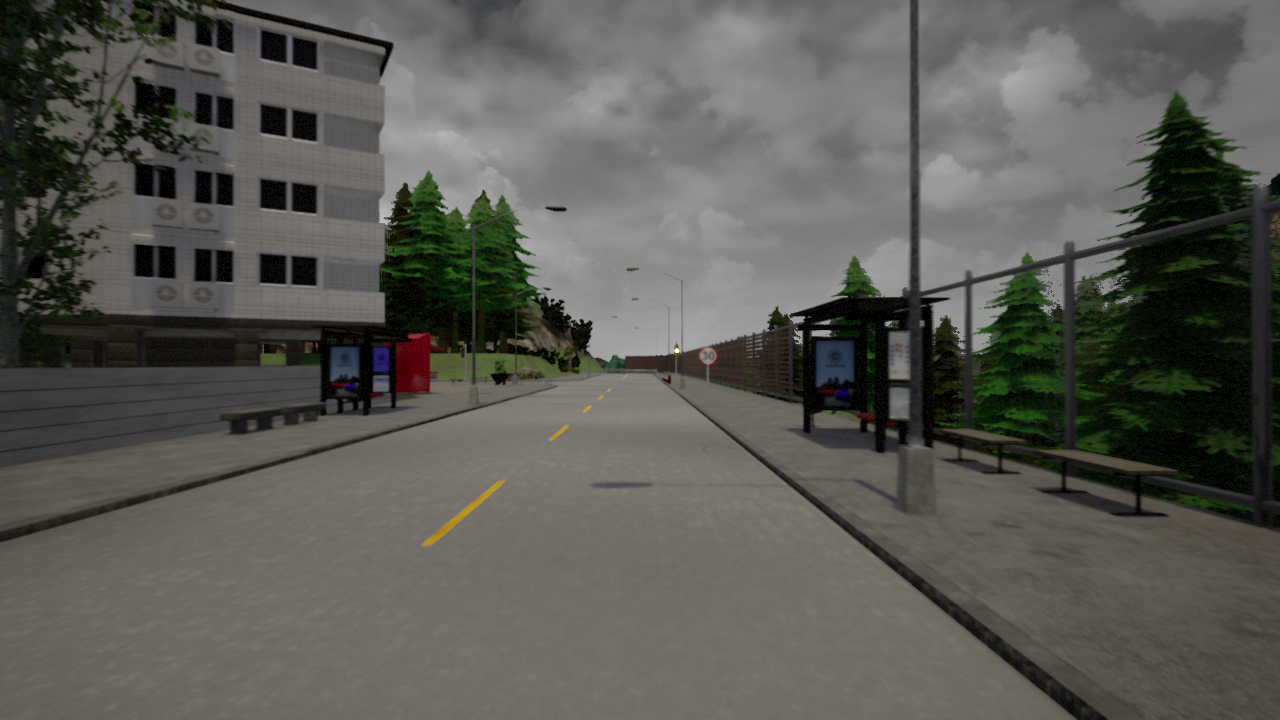yellow: (674, 343, 680, 357)
